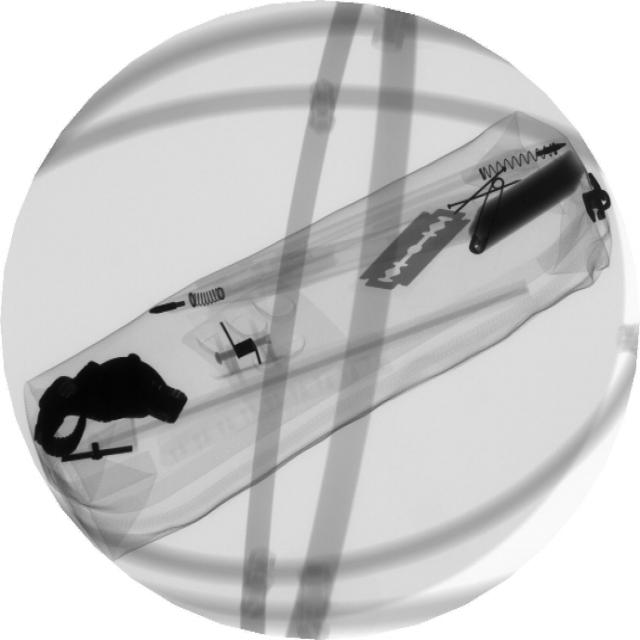BLADE: (351, 194, 481, 298)
